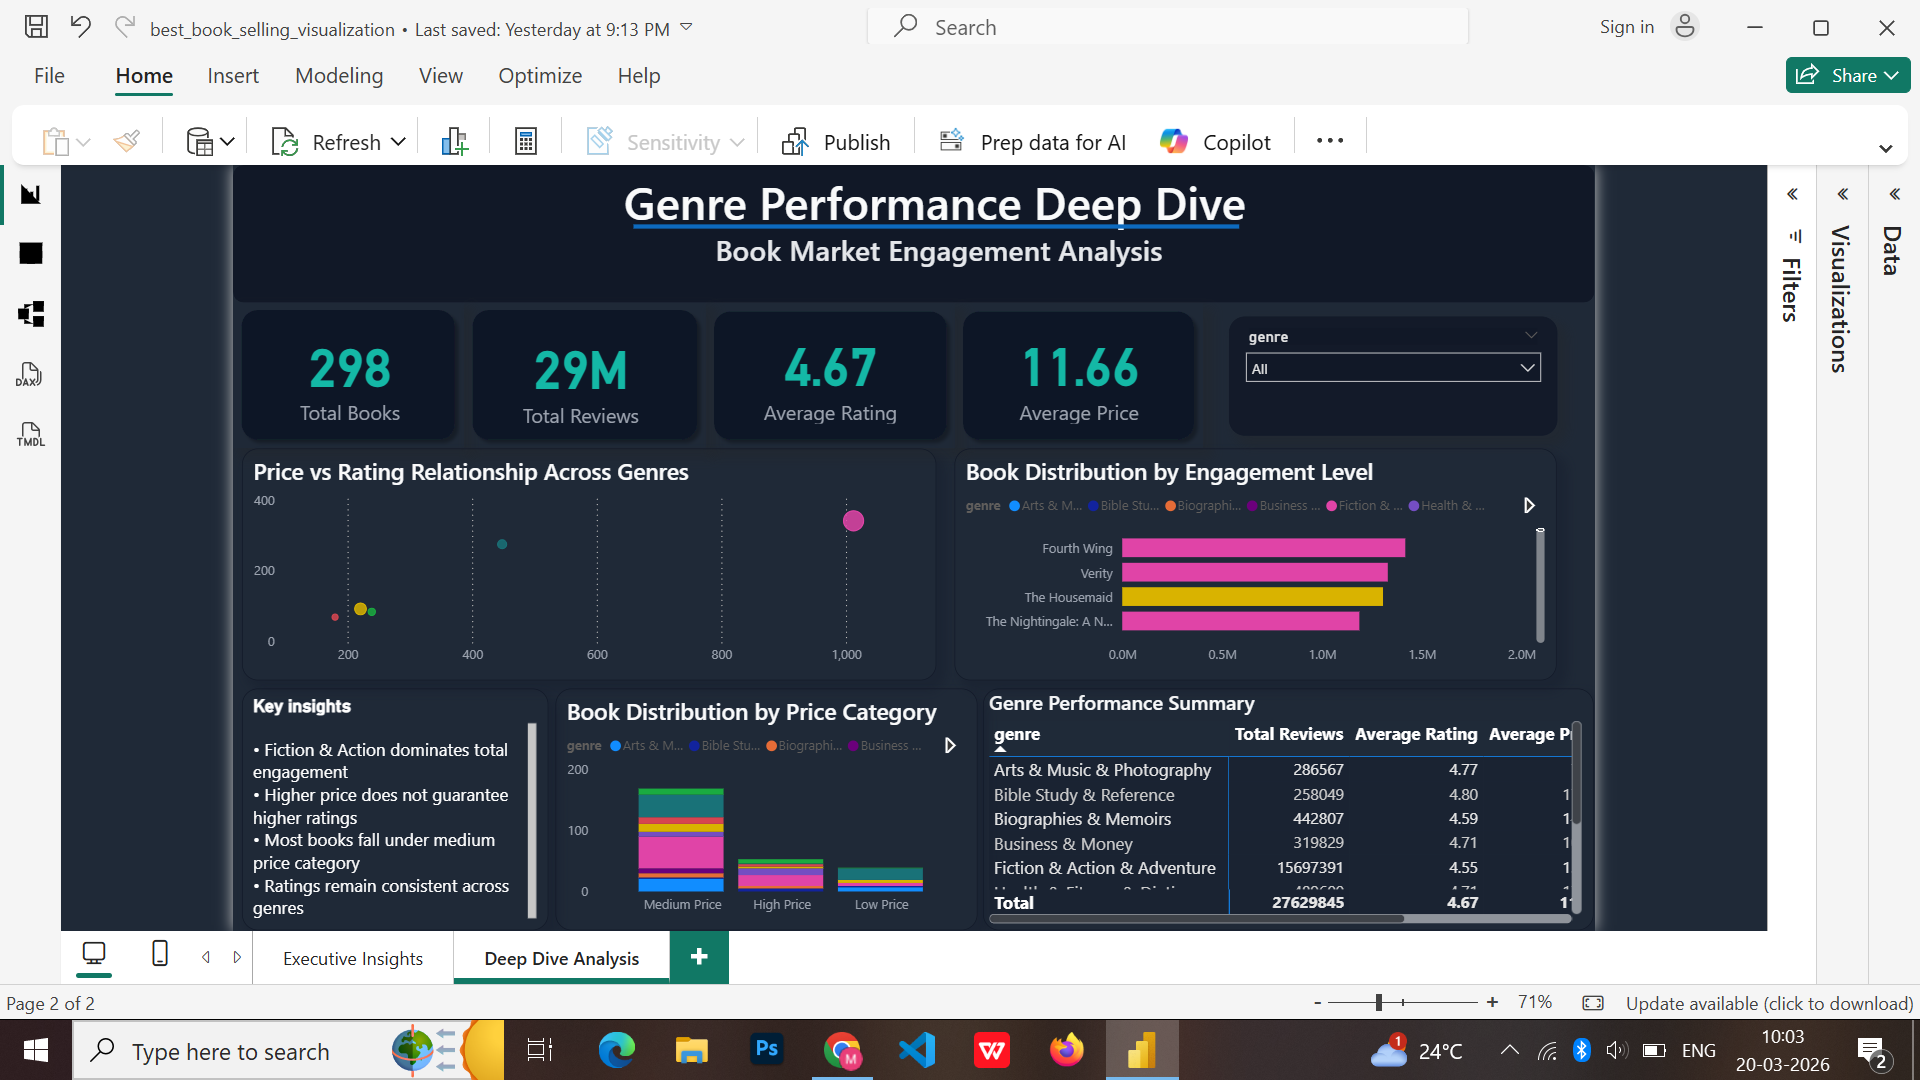

The page's visual inventory and layout, read from the dashboard file:
{"tool":"powerbi","page":{"name":"Deep Dive Analysis","canvas":[1280,720],"ordinal":1},"visuals":[{"type":"shape","box":[0,0,1279.7,129.4],"z":0},{"type":"textbox","box":[0,0,1279.7,129.4],"z":1000},{"type":"shape","box":[376.5,0,569.6,115.6],"z":2000},{"type":"shape","box":[0,128.7,216.5,137.8],"z":3000},{"type":"card","title":"Average","fields":{"Values":["CountNonNull(book_master_cleaned.book_name)"]},"box":[31.8,143.8,154.4,106],"z":4000},{"type":"shape","box":[216.5,128.7,227.1,137.8],"z":5000},{"type":"card","title":"Average","fields":{"Values":["Sum(book_master_cleaned.reviews_count)"]},"box":[251.4,143.8,151.4,110.5],"z":6000},{"type":"shape","box":[443.7,130.2,234.7,136.3],"z":7000},{"type":"card","title":"Average","fields":{"Values":["Avg(book_master_cleaned.rating)"]},"box":[487.6,143.8,146.9,104.5],"z":8000},{"type":"shape","box":[678.4,130.2,233.2,136.3],"z":9000},{"type":"card","title":"Average","fields":{"Values":["Avg(book_master_cleaned.price)"]},"box":[705.6,143.8,180.2,104.5],"z":10000},{"type":"slicer","fields":{"Values":["book_master_cleaned.genre"]},"box":[935.8,142.3,308.9,112.1],"z":11000},{"type":"pivotTable","title":"Genre Performance Summary","fields":{"Rows":["book_master_cleaned.genre"],"Values":["Sum(book_master_cleaned.reviews_count)","Avg(book_master_cleaned.rating)","Avg(book_master_cleaned.price)","CountNonNull(book_master_cleaned.book_name)"]},"box":[705.6,492.1,573.9,227.1],"z":12000},{"type":"scatterChart","title":"Price vs Rating Relationship Across Genres","fields":{"X":["Sum(book_master_cleaned.price)"],"Y":["Sum(book_master_cleaned.rating)"],"Size":["Sum(book_master_cleaned.reviews_count)"],"Series":["book_master_cleaned.genre"]},"box":[9.1,266.5,652.6,218],"z":13000},{"type":"columnChart","title":"Book Distribution by Price Category","fields":{"Series":["book_master_cleaned.genre"],"Y":["CountNonNull(book_master_cleaned.book_name)"],"Category":["book_master_cleaned.Price Category"]},"box":[302.8,492.1,396.7,227.1],"z":14000},{"type":"barChart","title":"Book Distribution by Engagement Level","fields":{"Series":["book_master_cleaned.genre"],"Y":["Sum(book_master_cleaned.reviews_count)"],"Category":["book_master_cleaned.book_name"]},"box":[678.4,266.5,566.3,218],"z":15000},{"type":"textbox","title":"Key insights","box":[9.1,492.1,287.7,227.1],"z":16000}]}

Visuals, with their boxes on the page's 1280x720 design canvas (x1, y1, x2, y2). These are canvas units, not pixel positions in the 1920x1080 screenshot, which may show the page scaled, cropped or inside an application window:
shape: {"left": 0, "top": 0, "right": 1280, "bottom": 129}
textbox: {"left": 0, "top": 0, "right": 1280, "bottom": 129}
shape: {"left": 376, "top": 0, "right": 946, "bottom": 116}
shape: {"left": 0, "top": 129, "right": 216, "bottom": 266}
"Average" card: {"left": 32, "top": 144, "right": 186, "bottom": 250}
shape: {"left": 216, "top": 129, "right": 444, "bottom": 266}
"Average" card: {"left": 251, "top": 144, "right": 403, "bottom": 254}
shape: {"left": 444, "top": 130, "right": 678, "bottom": 266}
"Average" card: {"left": 488, "top": 144, "right": 634, "bottom": 248}
shape: {"left": 678, "top": 130, "right": 912, "bottom": 266}
"Average" card: {"left": 706, "top": 144, "right": 886, "bottom": 248}
slicer - book_master_cleaned.genre: {"left": 936, "top": 142, "right": 1245, "bottom": 254}
"Genre Performance Summary" pivotTable: {"left": 706, "top": 492, "right": 1280, "bottom": 719}
"Price vs Rating Relationship Across Genres" scatterChart: {"left": 9, "top": 266, "right": 662, "bottom": 484}
"Book Distribution by Price Category" columnChart: {"left": 303, "top": 492, "right": 700, "bottom": 719}
"Book Distribution by Engagement Level" barChart: {"left": 678, "top": 266, "right": 1245, "bottom": 484}
"Key insights" textbox: {"left": 9, "top": 492, "right": 297, "bottom": 719}
